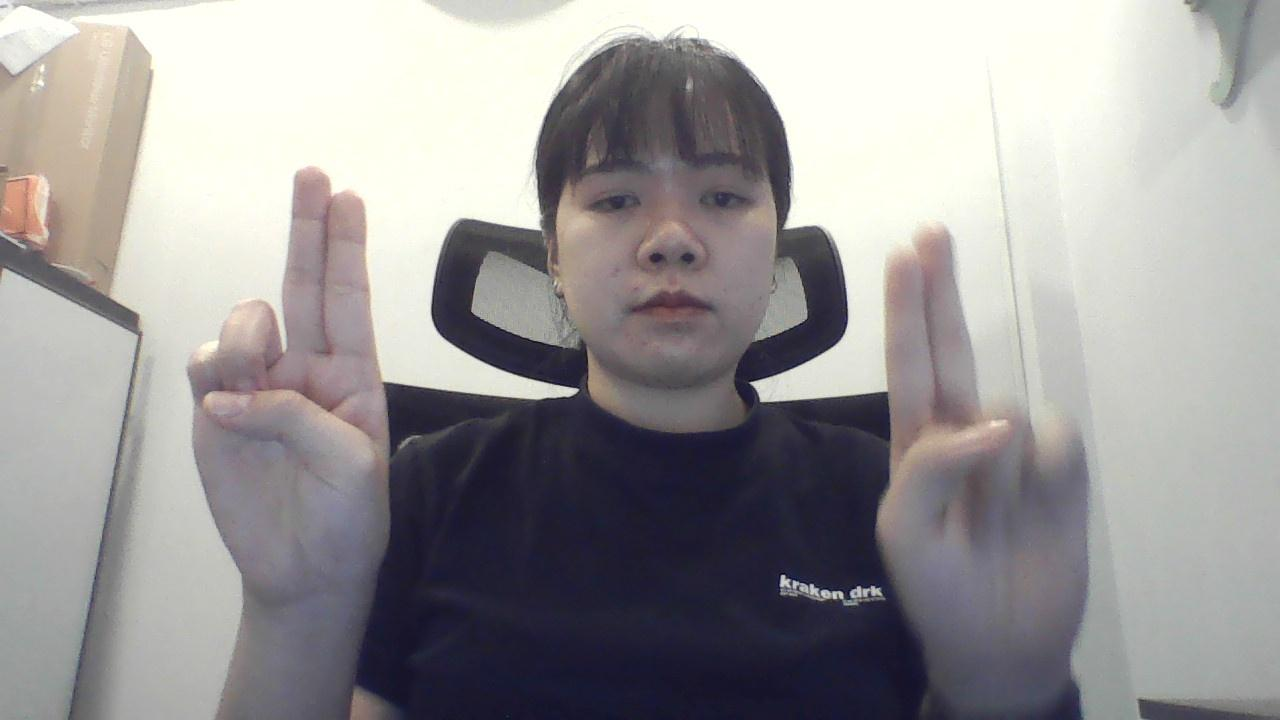U: (859, 202, 1110, 699), (168, 154, 402, 640)
